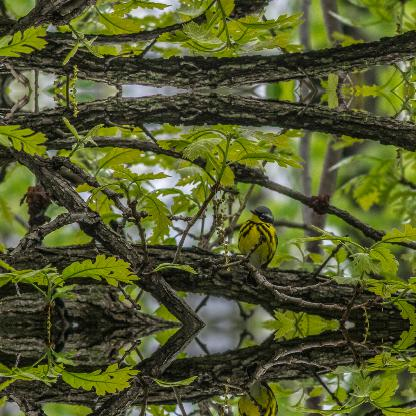Bird: (235, 207, 281, 283), (235, 367, 282, 415)
